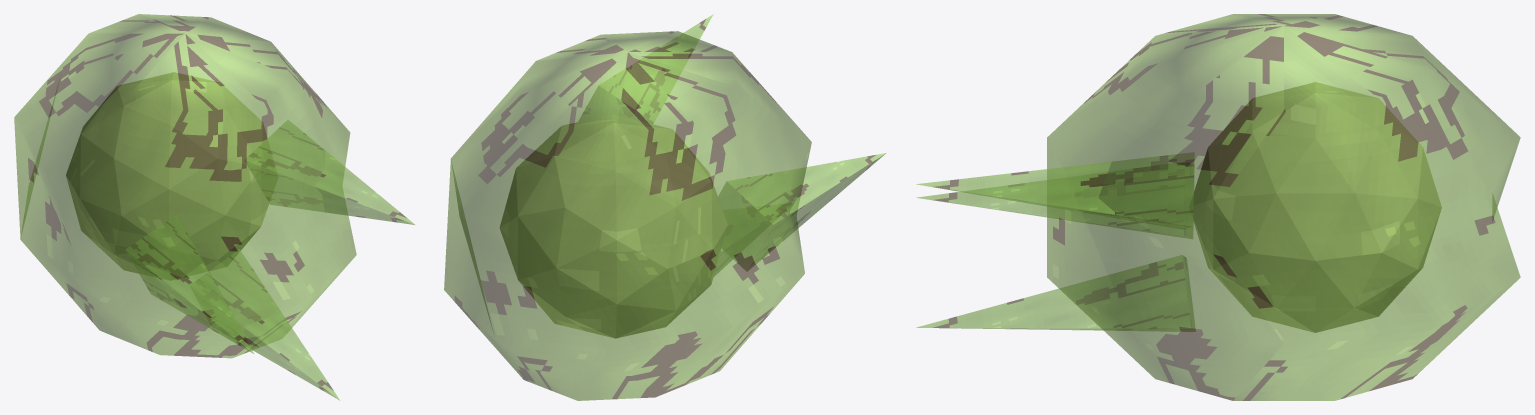
File: proj_spitter_orb.gltf
3 renders of one model, left to right at view 1: azimuth 30°, elevation 25°; view 2: azimuth 150°, elevation 25°; view 3: azimuth 270°, elevation 25°, orthographic. The views are drawn at different scales.
Parts seen in each view (by area): view 1: shell, core; view 2: shell, core; view 3: shell, core.
Boxes of the visible parts, x1=… form: shell: x1=14, y1=14, x2=414, y2=400; core: x1=66, y1=72, x2=277, y2=279; shell: x1=444, y1=14, x2=886, y2=400; core: x1=500, y1=114, x2=727, y2=338; shell: x1=916, y1=14, x2=1520, y2=400; core: x1=1190, y1=82, x2=1441, y2=332.
Bounding box in the file's own units: 0.3614 × 0.38 × 0.5748.
2 materials, 2 textured.
